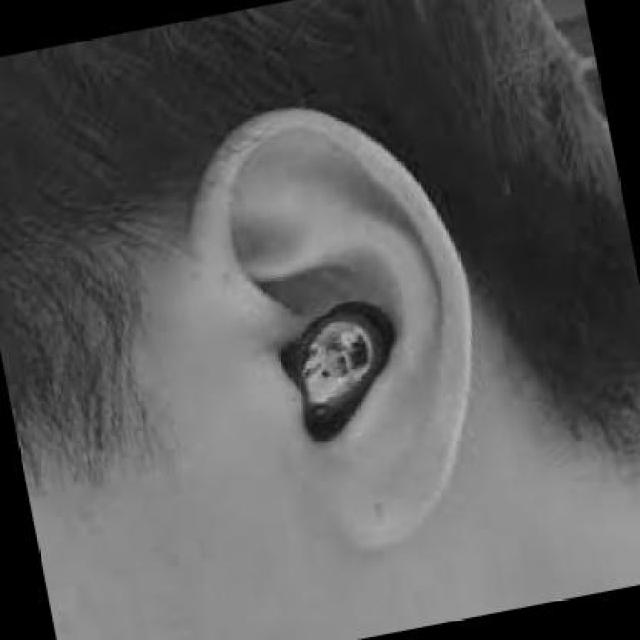earphone: (278, 276, 408, 480)
